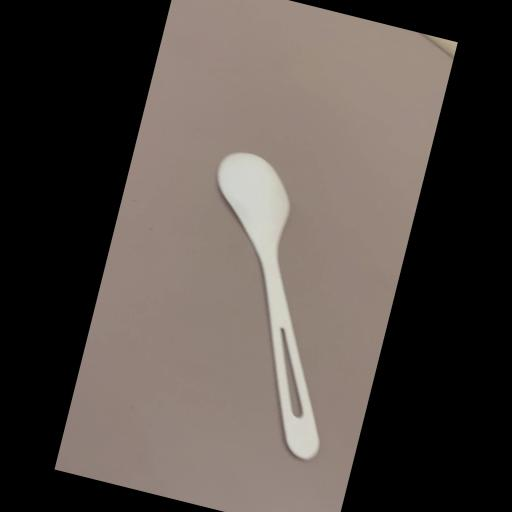utensil: (148, 142, 382, 464)
